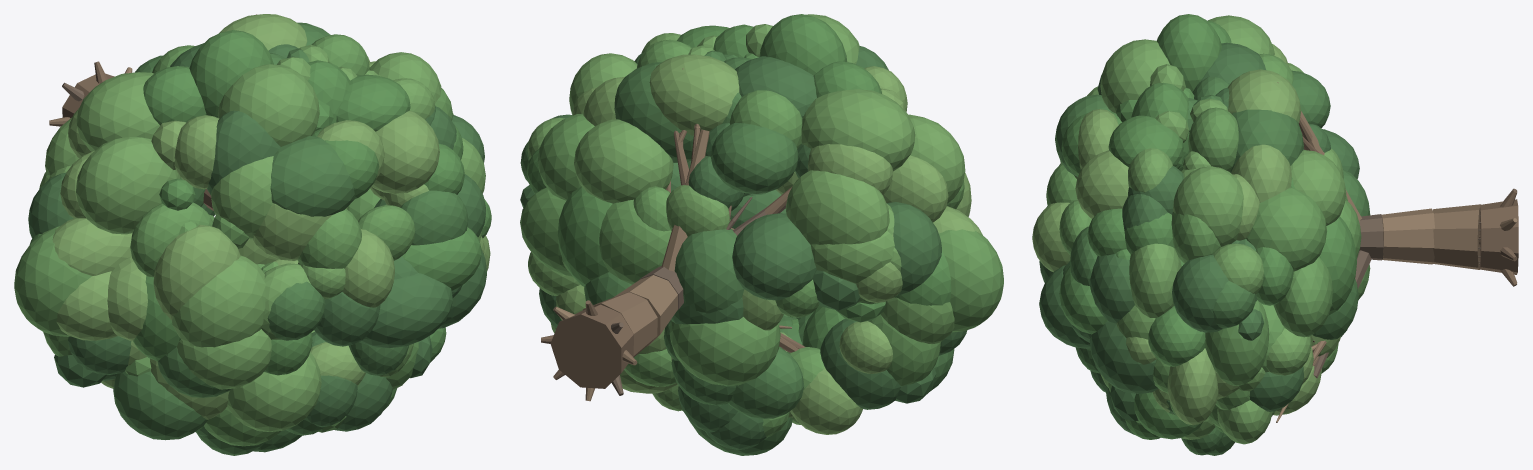
Rendered from tree_broad.glb.
3 renders of one model, left to right at view 1: azimuth 30°, elevation 25°; view 2: azimuth 150°, elevation 25°; view 3: azimuth 270°, elevation 25°, orthographic. The views are drawn at different scales.
Parts seen in each view (by area): view 1: foliage_cluster_097, foliage_cluster_032, foliage_cluster_094, foliage_cluster_040, foliage_cluster_045, foliage_cluster_163, foliage_cluster_078, foliage_cluster_135, foliage_cluster_150, foliage_cluster_144, foliage_cluster_050, foliage_cluster_171 (+58 smaller); view 2: foliage_cluster_146, foliage_cluster_135, foliage_cluster_142, foliage_cluster_145, foliage_cluster_049, foliage_cluster_069, trunk_0, foliage_cluster_008, foliage_cluster_150, foliage_cluster_068, foliage_cluster_093, foliage_cluster_158 (+55 smaller); view 3: foliage_cluster_039, foliage_cluster_131, foliage_cluster_171, foliage_cluster_071, foliage_cluster_160, foliage_cluster_094, foliage_cluster_125, foliage_cluster_007, trunk_1, foliage_cluster_095, foliage_cluster_126, trunk_2 (+55 smaller).
Part boxes in pixels (box(x1,y1,x2,y2)): foliage_cluster_097: box(76, 137, 180, 234); foliage_cluster_032: box(172, 255, 265, 347); foliage_cluster_094: box(217, 64, 319, 146); foliage_cluster_040: box(270, 136, 354, 216); foliage_cluster_045: box(153, 224, 240, 320); foliage_cluster_163: box(227, 352, 321, 431); foliage_cluster_078: box(359, 273, 452, 347); foliage_cluster_135: box(76, 72, 159, 151); foliage_cluster_150: box(14, 226, 91, 336); foliage_cluster_144: box(113, 371, 207, 440); foliage_cluster_050: box(371, 110, 439, 193); foliage_cluster_171: box(189, 30, 273, 117); foliage_cluster_146: box(785, 170, 889, 244); foliage_cluster_135: box(801, 89, 915, 171); foliage_cluster_142: box(574, 119, 673, 203); foliage_cluster_145: box(669, 317, 780, 385); foliage_cluster_049: box(732, 213, 816, 300); foliage_cluster_069: box(649, 54, 739, 135); trunk_0: box(550, 304, 633, 388); foliage_cluster_008: box(710, 123, 798, 193); foliage_cluster_150: box(939, 229, 1003, 332); foliage_cluster_068: box(674, 229, 744, 313); foliage_cluster_093: box(599, 199, 671, 284); foliage_cluster_158: box(557, 186, 612, 286); foliage_cluster_039: box(1246, 187, 1326, 271); foliage_cluster_131: box(1173, 166, 1243, 246); foliage_cluster_171: box(1157, 14, 1221, 92); foliage_cluster_071: box(1273, 257, 1332, 337); foliage_cluster_160: box(1172, 254, 1228, 332); foliage_cluster_094: box(1100, 39, 1169, 113); foliage_cluster_125: box(1129, 243, 1181, 318); foliage_cluster_007: box(1205, 300, 1269, 385); trunk_1: box(1433, 204, 1480, 269); foliage_cluster_095: box(1089, 321, 1158, 393); foliage_cluster_126: box(1167, 348, 1218, 425); trunk_2: box(1381, 208, 1434, 264).
Bounding box in the file's own units: 7.4 × 6.67 × 7.18.
